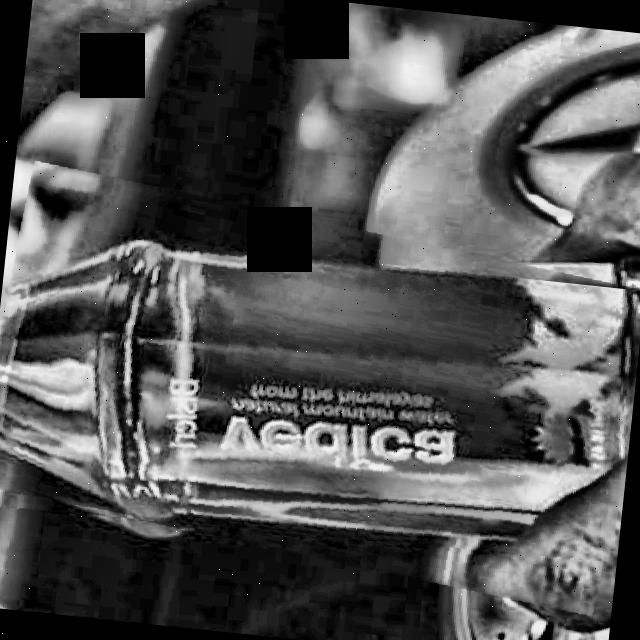bottle: (0, 236, 640, 542)
